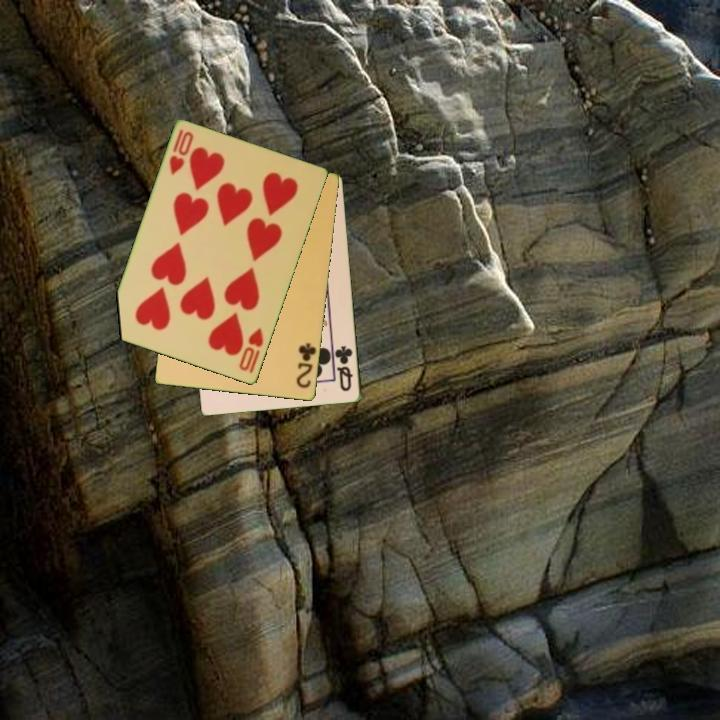10h: (166, 126, 197, 178), (236, 324, 266, 377)
2c: (293, 339, 319, 392)
Qc: (332, 342, 356, 394)
